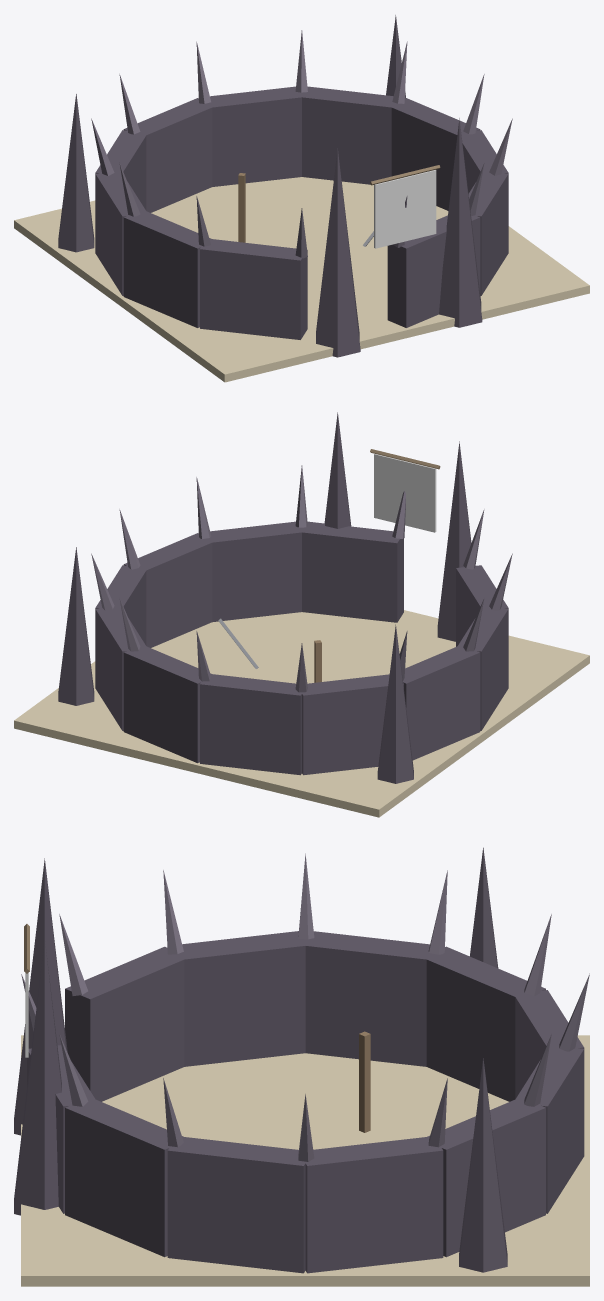
3 views of the same model, one above another, from view 1: azimuth 30°, elevation 25°; view 2: azimuth 150°, elevation 25°; view 3: azimuth 270°, elevation 25° (orthographic). The views are drawn at different scales.
Visible parts, largest first — view 1: body; view 2: body; view 3: body.
Boxes of the visible parts, x1,y1,x2,y2 form: body: (14,15,589,382); body: (14,412,589,817); body: (14,847,589,1286).
Size of the model in its own units: 9.6 by 5 by 9.72.
